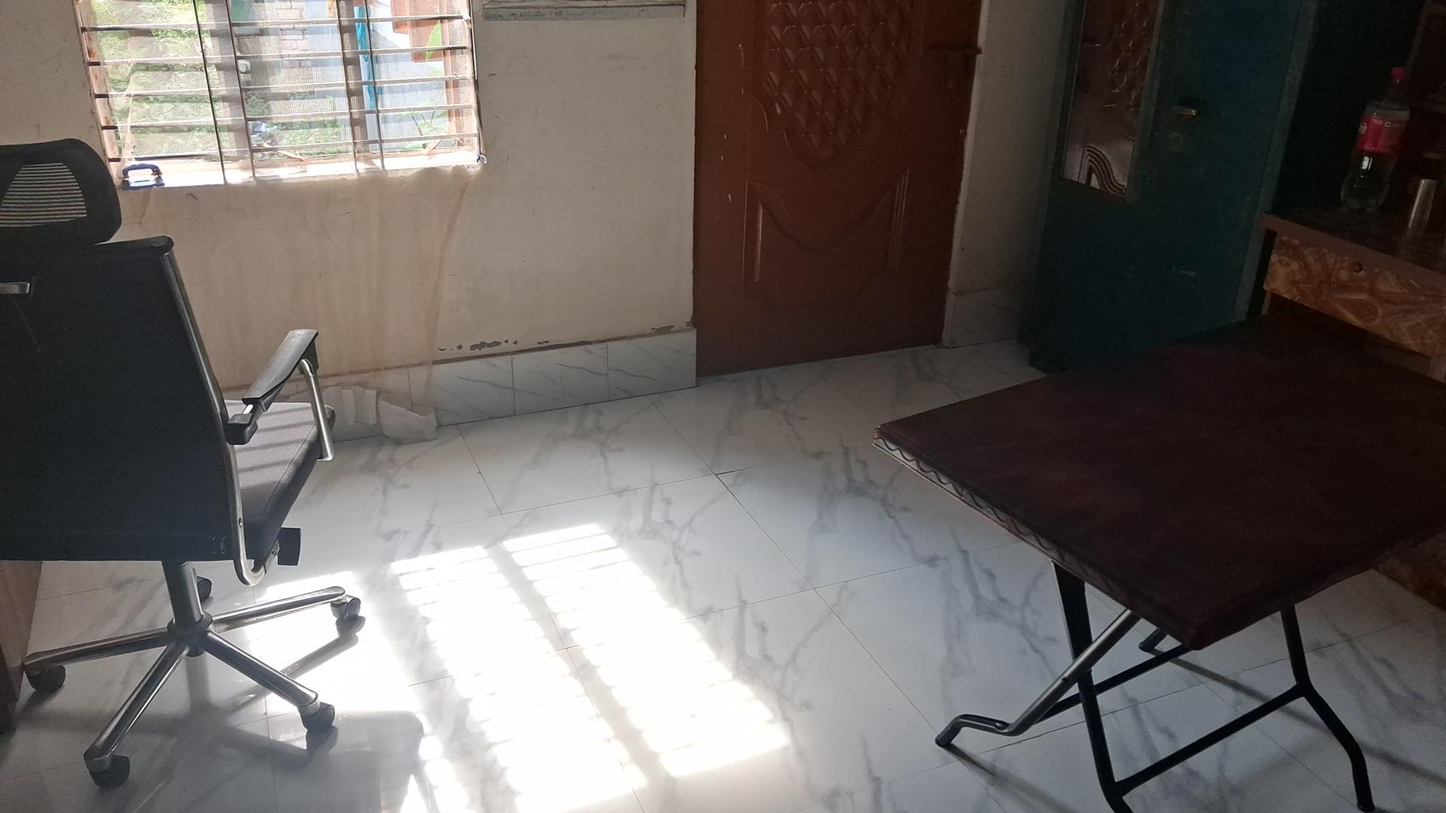Bottle: (1340, 66, 1411, 212)
Chair: (1, 138, 363, 790)
Table: (876, 320, 1445, 813)
Window: (69, 3, 480, 192)
